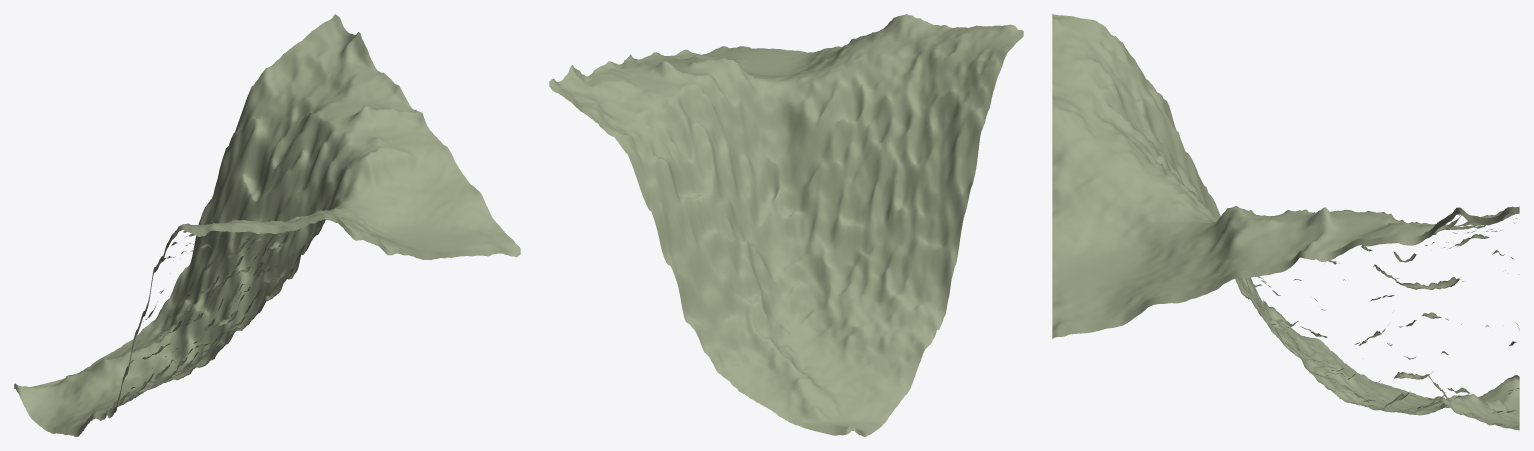
The model's file is terrain_r0_c3_lod0.glb.
3 views of the same model, side by side, from view 1: azimuth 30°, elevation 25°; view 2: azimuth 150°, elevation 25°; view 3: azimuth 270°, elevation 25° (orthographic). The views are drawn at different scales.
Parts seen in each view (by area): view 1: terrain_r0_c3; view 2: terrain_r0_c3; view 3: terrain_r0_c3.
Boxes of the visible parts, x1,y1,x2,y2 form: terrain_r0_c3: (14,14,520,436); terrain_r0_c3: (549,14,1023,436); terrain_r0_c3: (1052,14,1519,430).
Size of the model in its own units: 50 by 46.91 by 50.
